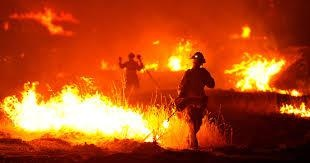fire: (0, 76, 170, 139), (224, 52, 295, 94), (1, 5, 77, 35), (151, 37, 195, 71), (234, 22, 253, 38)
